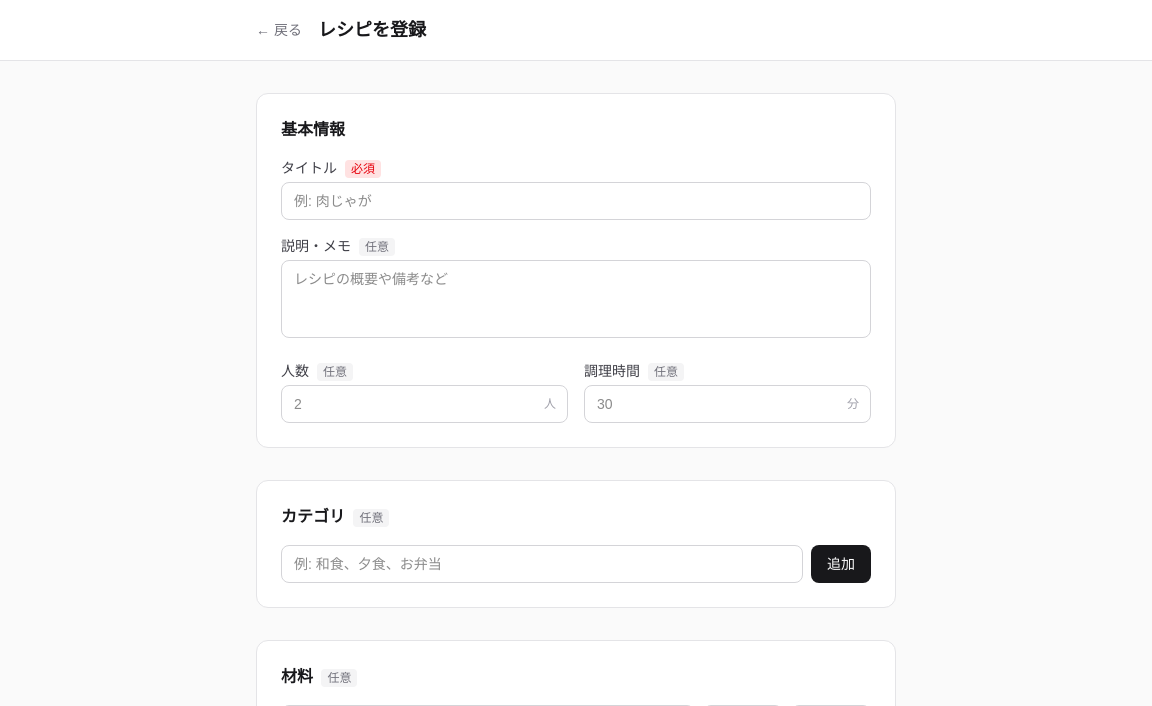
Test: NewRecipePage › カテゴリを入力して追加ボタンを押すとタグが表示される
This screenshot has width=1152, height=706.
Type "和食" into the field with placeholder "例: 和食、夕食、お弁当" at (542, 564), box [281,545,803,583]
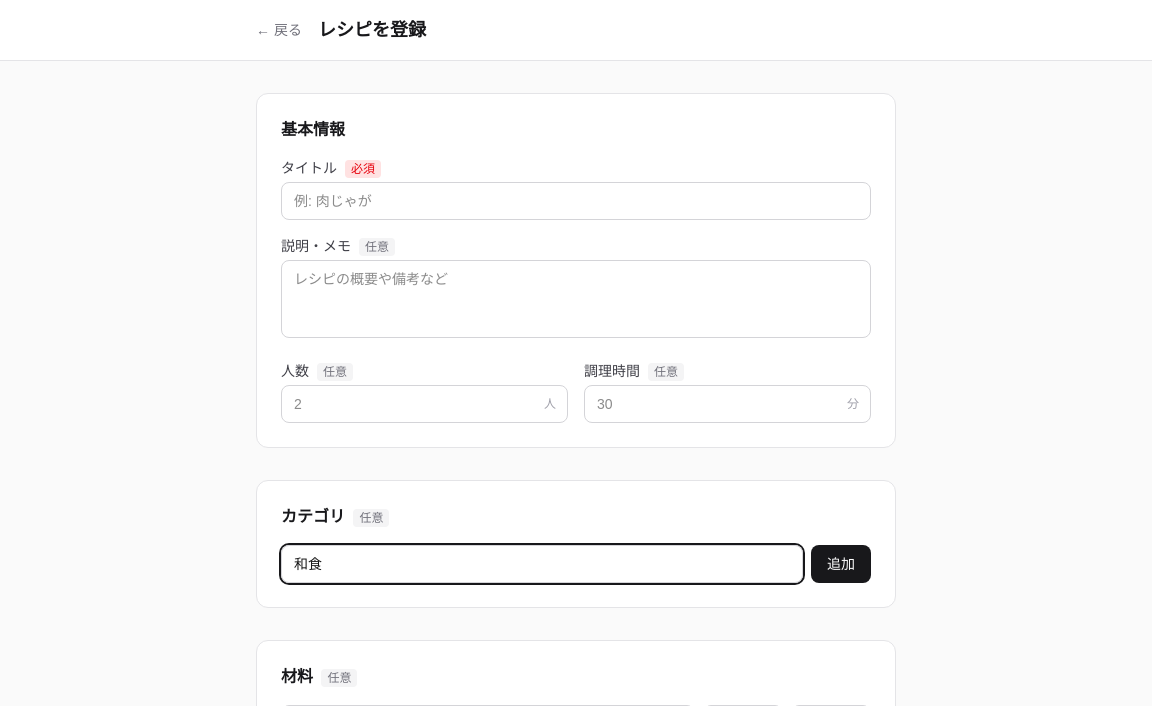
Click the button "追加" at (841, 564), box [811,545,871,583]
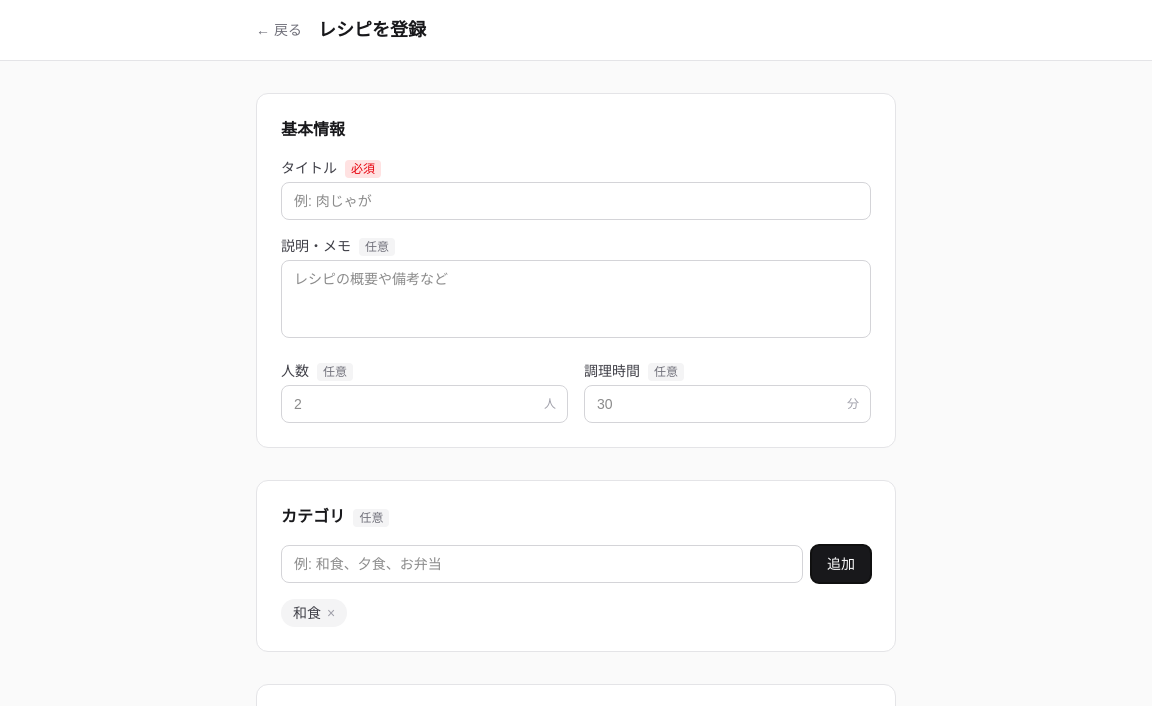
Expected: the text "和食" is shown, [293,605,321,621]
